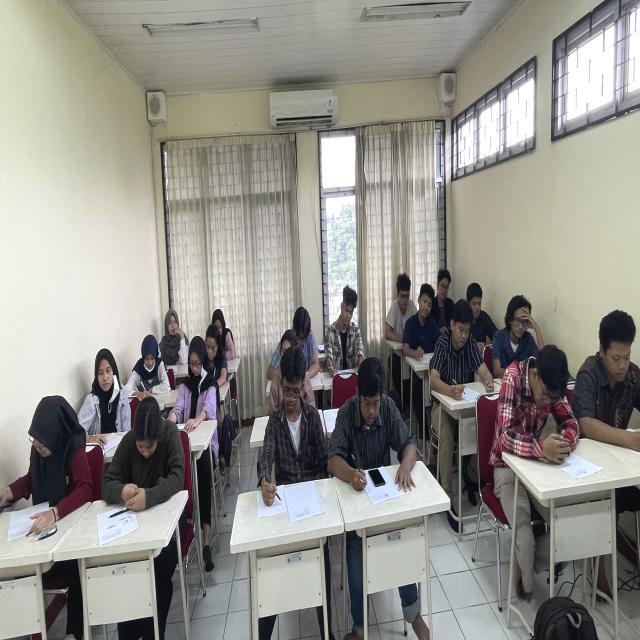phone: (13, 409, 85, 485), (360, 465, 394, 496)
